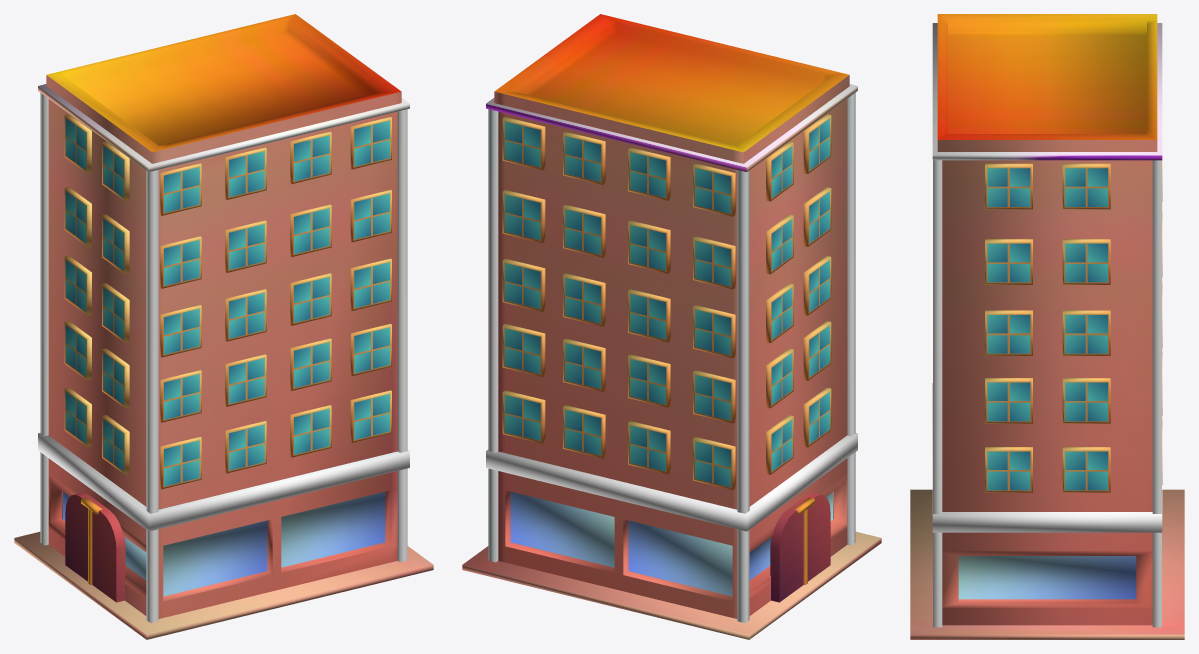
Rendered from House9.fbx.
3 renders of one model, left to right at view 1: azimuth 30°, elevation 25°; view 2: azimuth 150°, elevation 25°; view 3: azimuth 270°, elevation 25°, orthographic. The views are drawn at different scales.
Parts seen in each view (by area): view 1: House.9; view 2: House.9; view 3: House.9.
Part boxes in pixels (box(x1,y1,x2,y2)): House.9: box(14, 14, 433, 639); House.9: box(462, 14, 881, 639); House.9: box(910, 14, 1184, 639).
Bounding box in the file's own units: 1430 × 2254 × 1144.
Materials: 1 (1 with a texture image).
